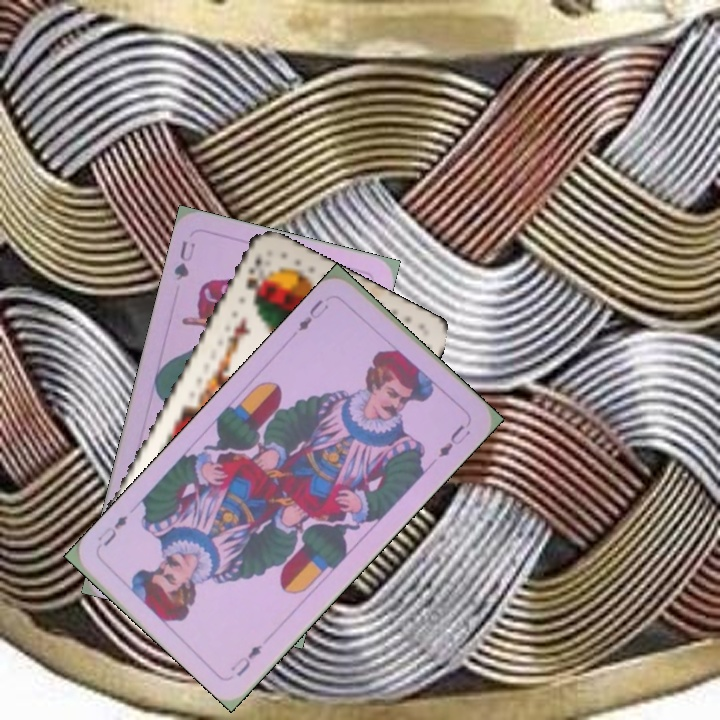EU: (226, 640, 264, 680), (293, 295, 331, 334)
GU: (169, 236, 198, 283)
SK: (241, 251, 265, 292)
